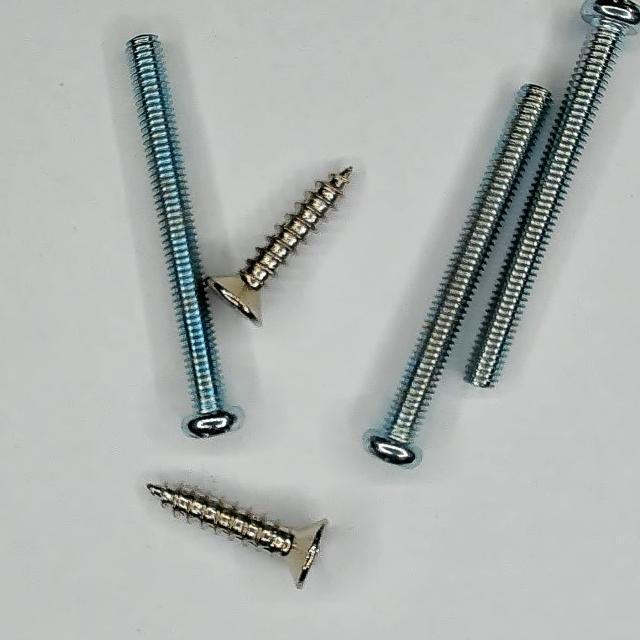Screw: (371, 83, 553, 465), (467, 0, 640, 388), (127, 34, 236, 438), (206, 167, 352, 324), (147, 486, 326, 590)
